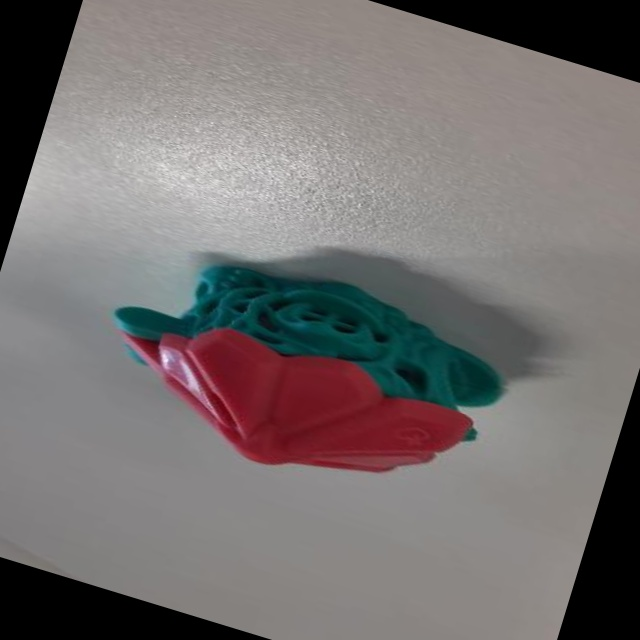House: (65, 213, 537, 545)
